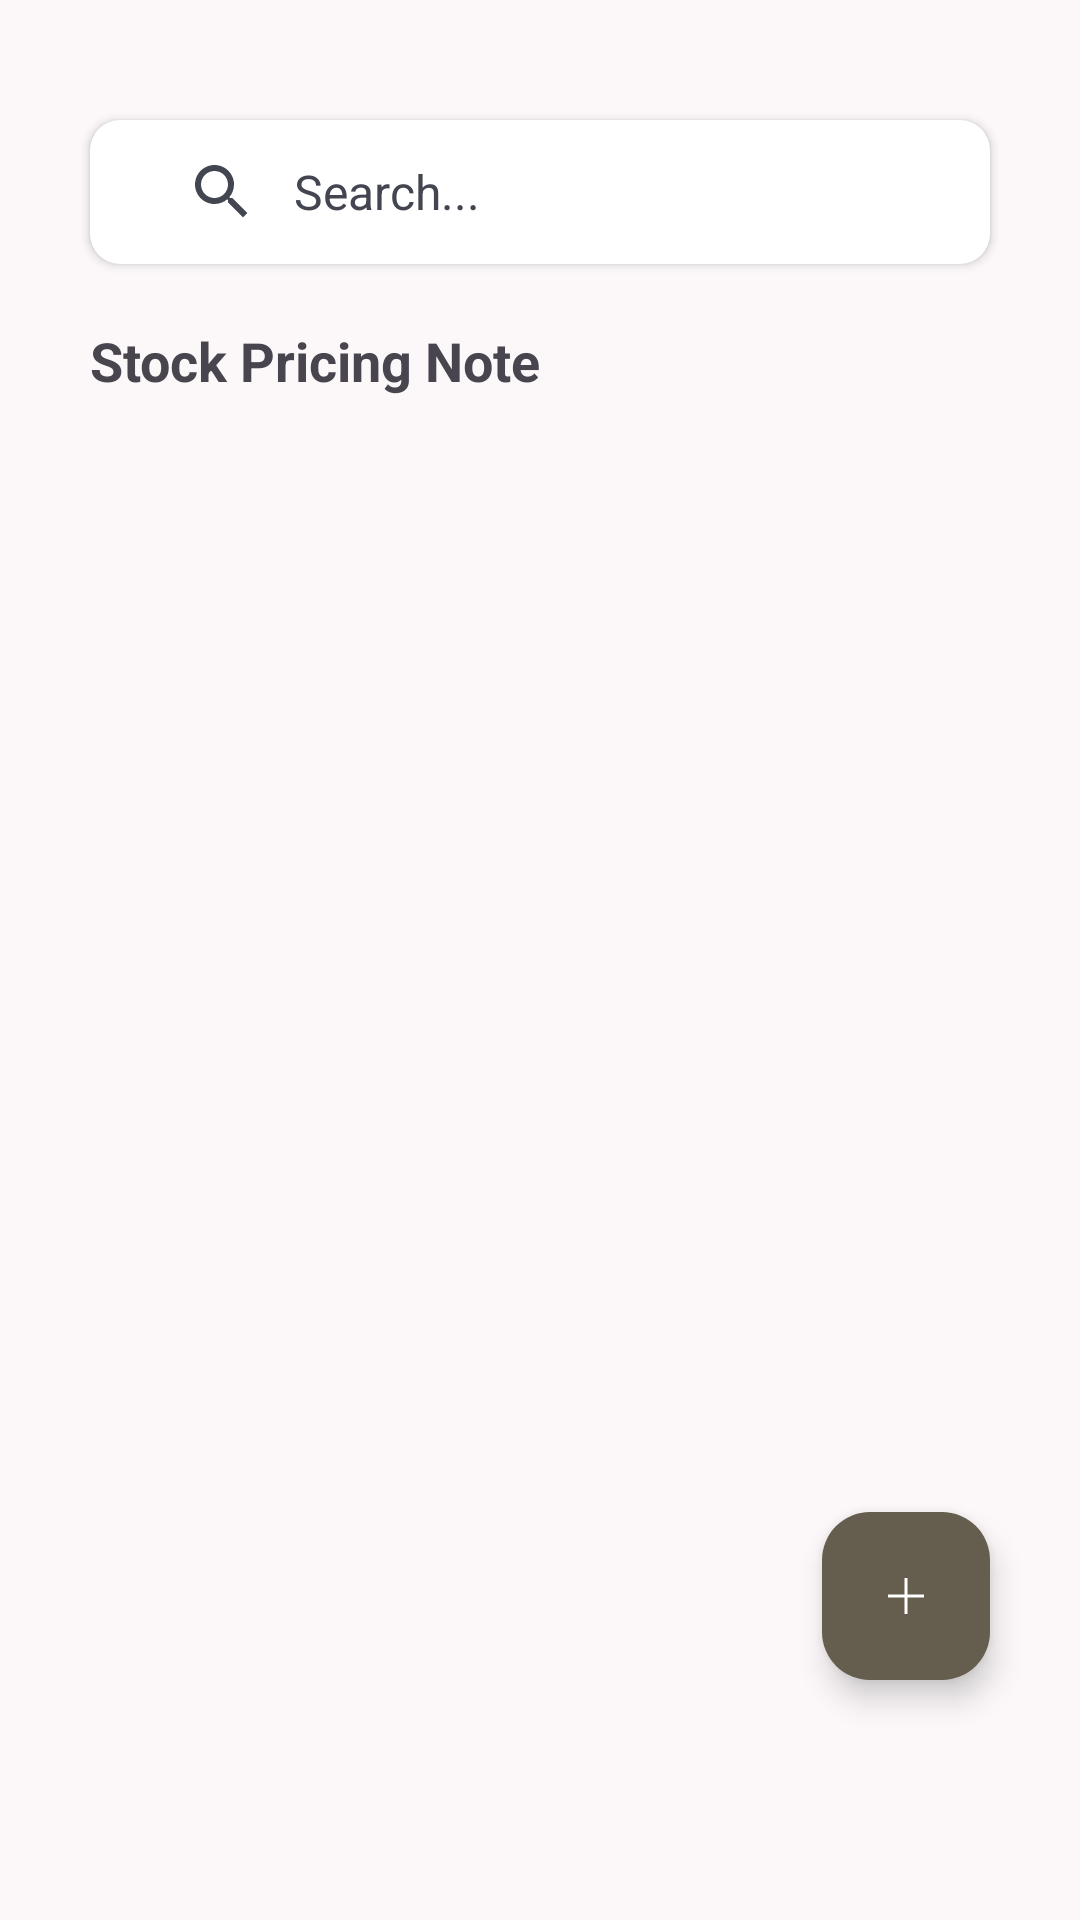

Icon click points for this 1080px×1920px phone screenshot, format point (x, y):
Add New Stock Pricing Note: point (906, 1596)
